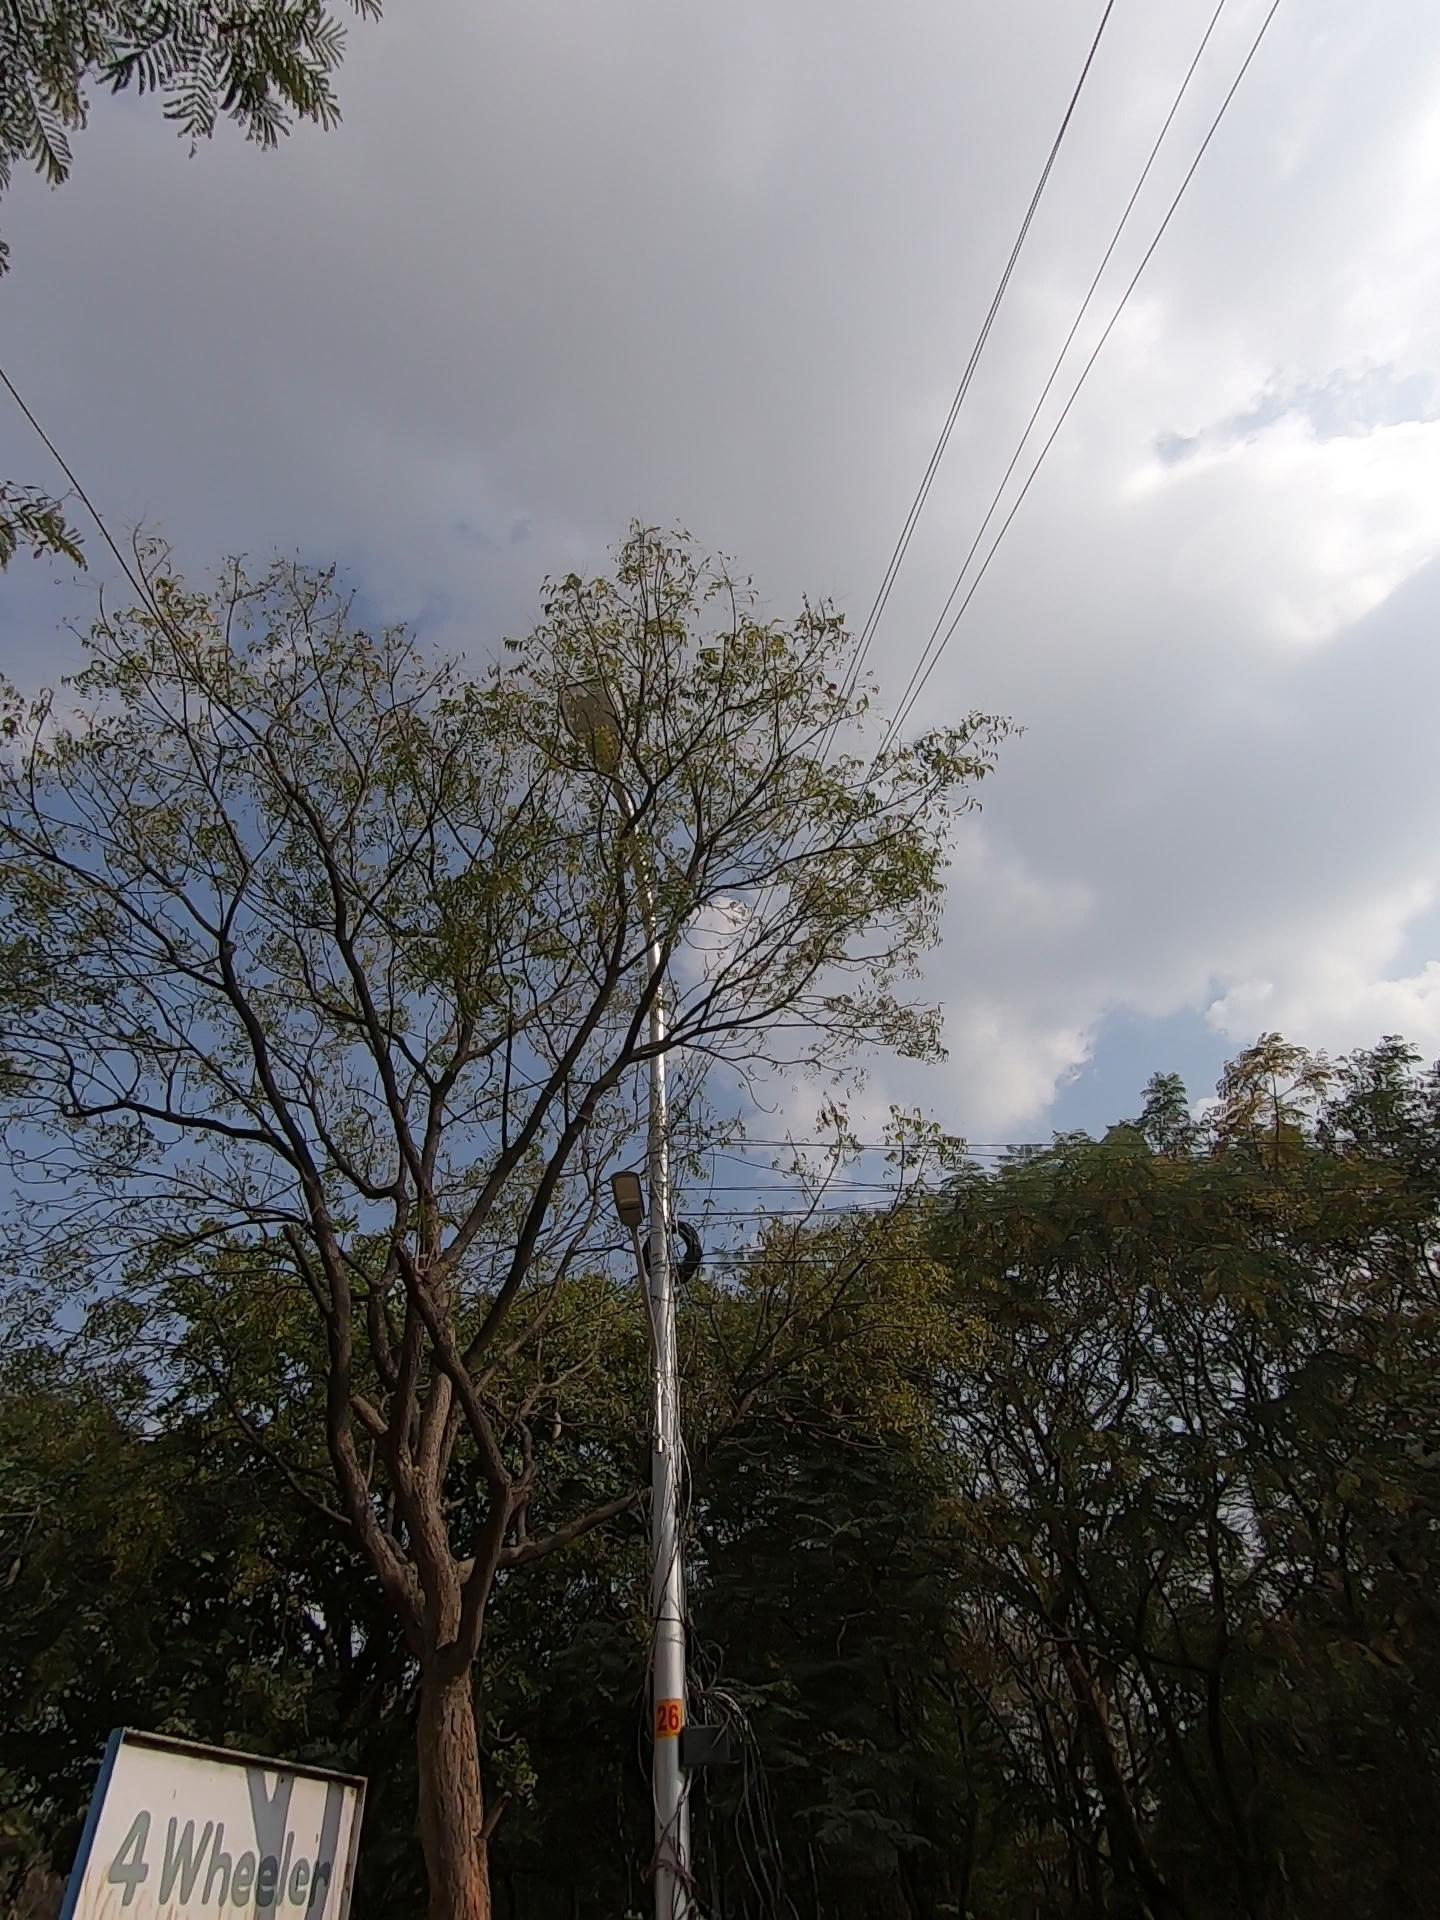off: (560, 810, 803, 1371)
